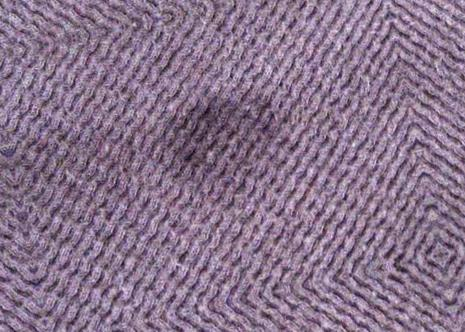stain: (155, 95, 285, 182)
